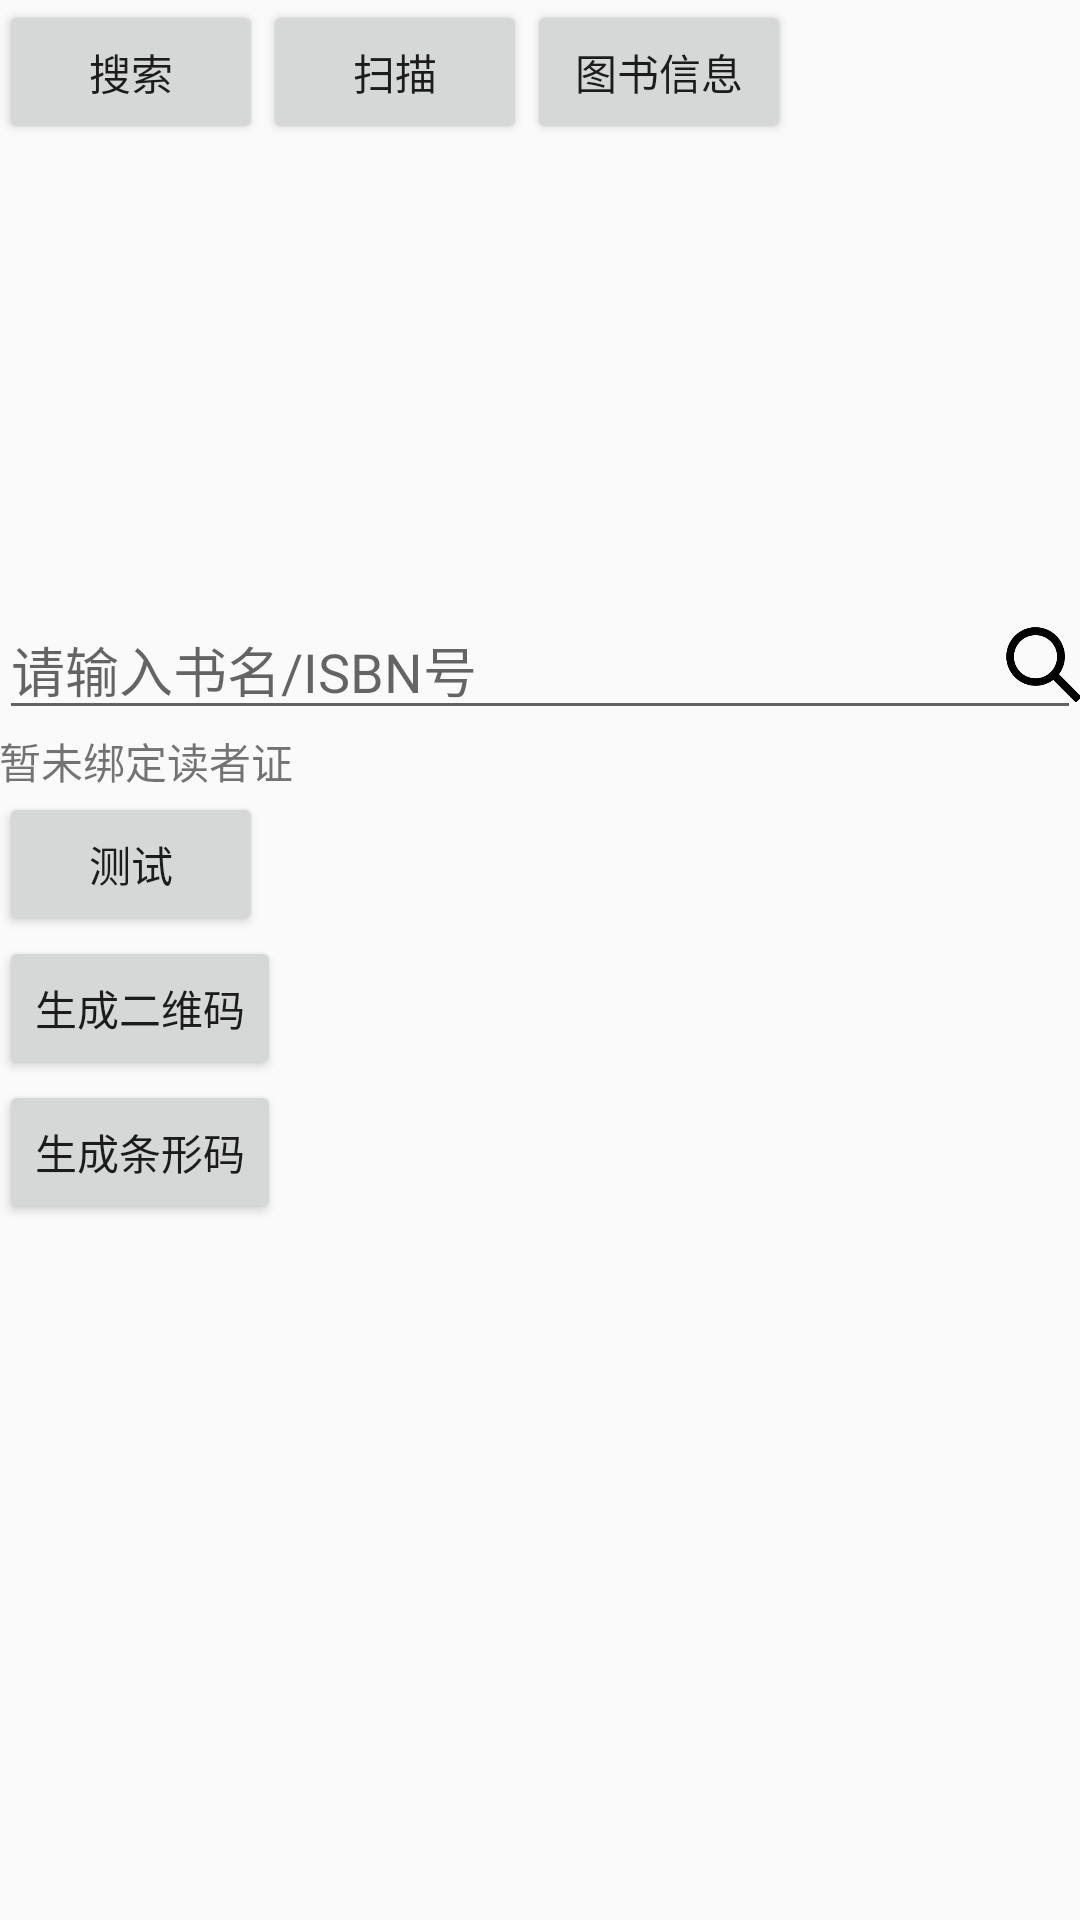

Where icons sit on this 1080 × 1920 app screen, as bbox(x1, y1, x2, y2):
search: bbox(1006, 627, 1080, 702)
